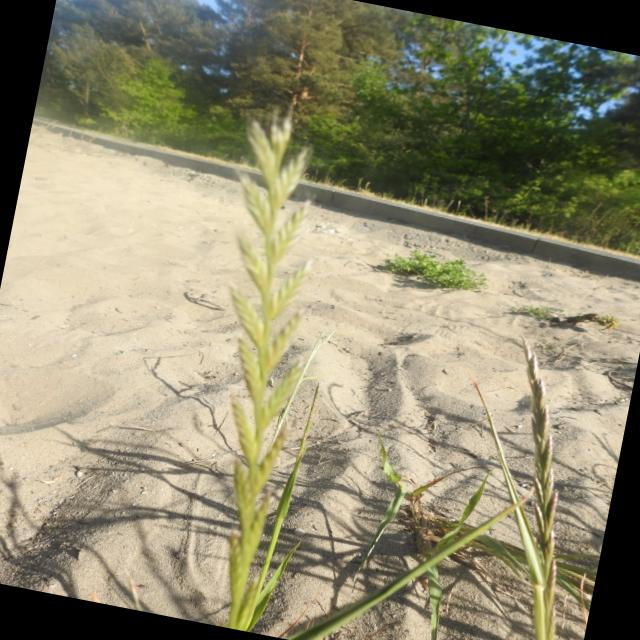Lolium: (144, 98, 380, 636), (484, 353, 596, 567)
